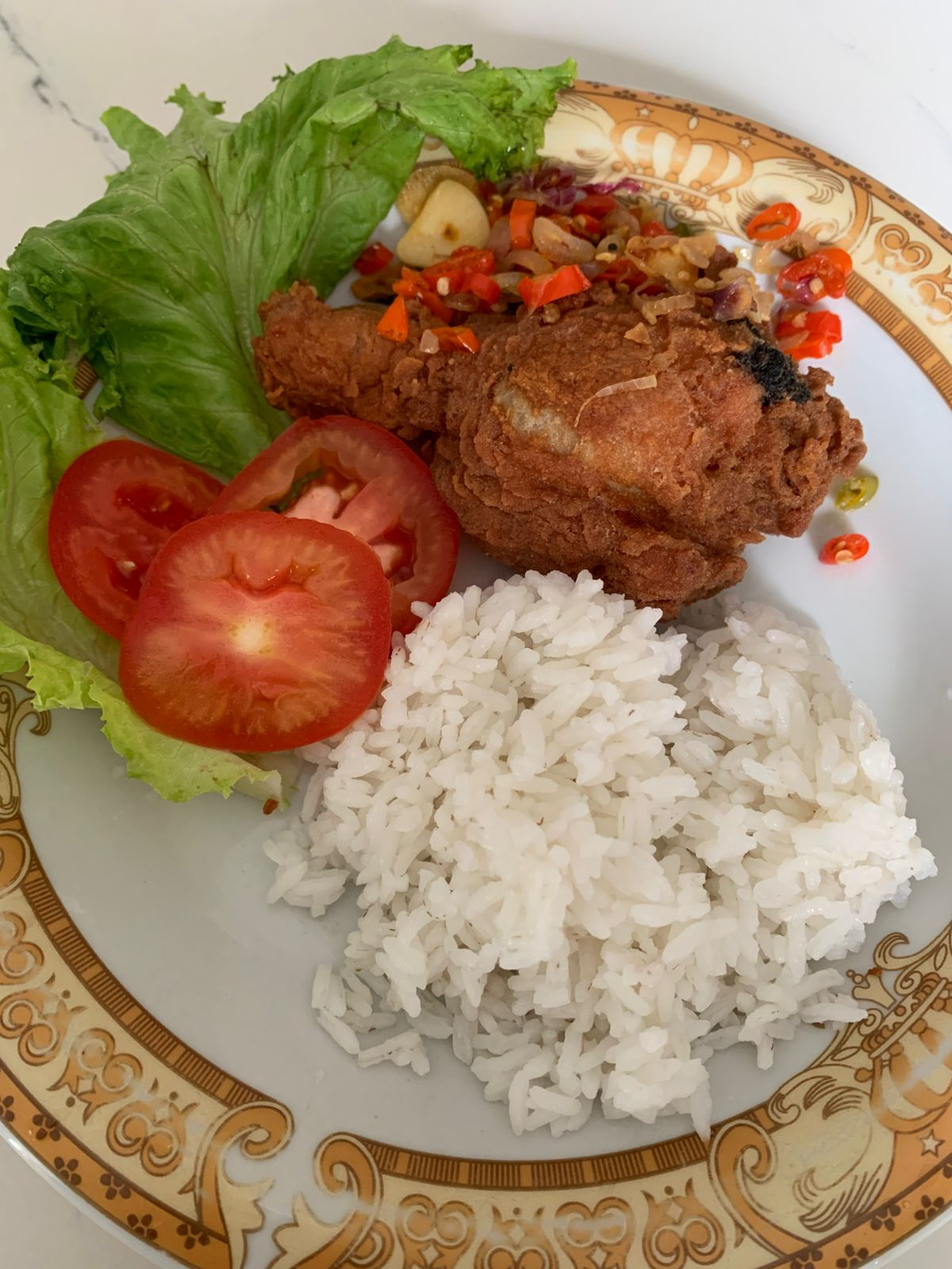buah_sayur_lainnya: (84, 178, 300, 417)
buah_sayur_vitA: (70, 431, 409, 738)
daging: (305, 259, 822, 512)
makanan_berpati: (395, 604, 873, 1066)
